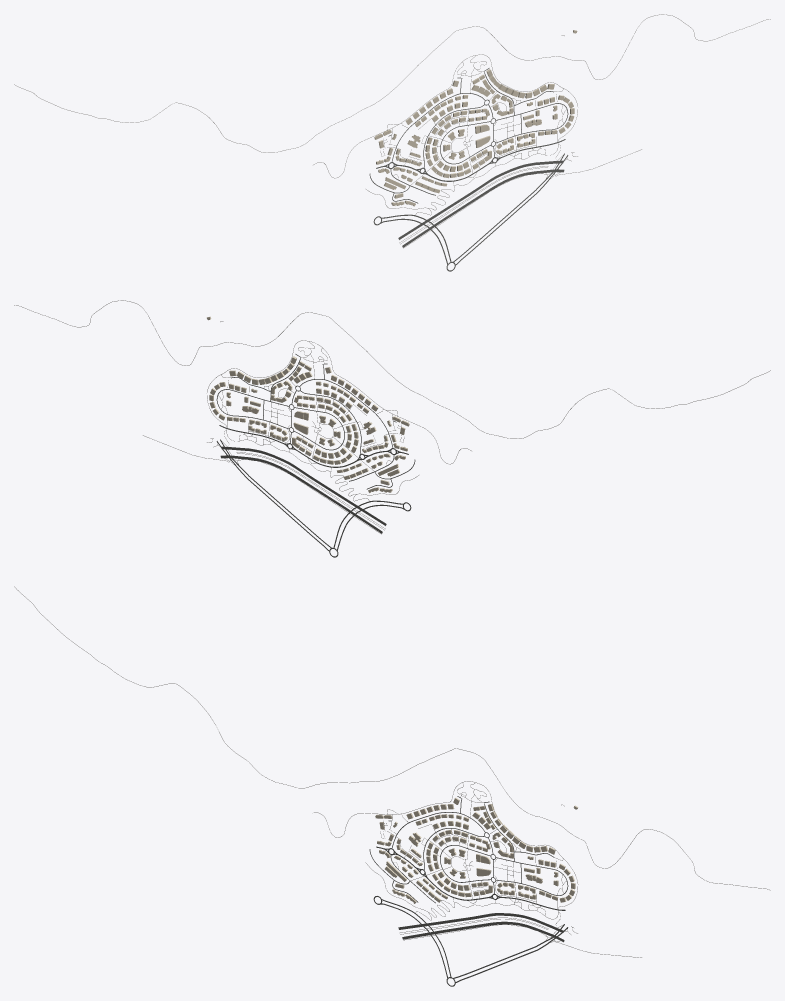
The model's file is historic-palestine-08_24_3498_3189.glb.
3 views of the same model, one above another, from view 1: azimuth 30°, elevation 25°; view 2: azimuth 150°, elevation 25°; view 3: azimuth 330°, elevation 25° (orthographic).
Visible parts, largest first — view 1: Road .001; view 2: Road .001; view 3: Road .001.
Boxes of the visible parts, bbox=[...] form: Road .001: bbox=[14, 14, 770, 152]; Road .001: bbox=[14, 300, 770, 438]; Road .001: bbox=[14, 586, 770, 890].
Size of the model in its own units: 3631 by 1347 by 13.6.
